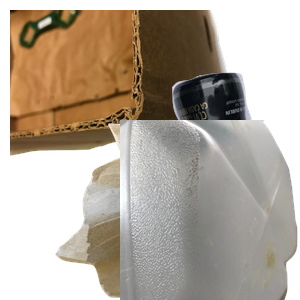cardboard: (10, 10, 237, 158)
glass: (106, 70, 300, 250)
plastic: (120, 120, 300, 300)
trash: (53, 121, 239, 300)
